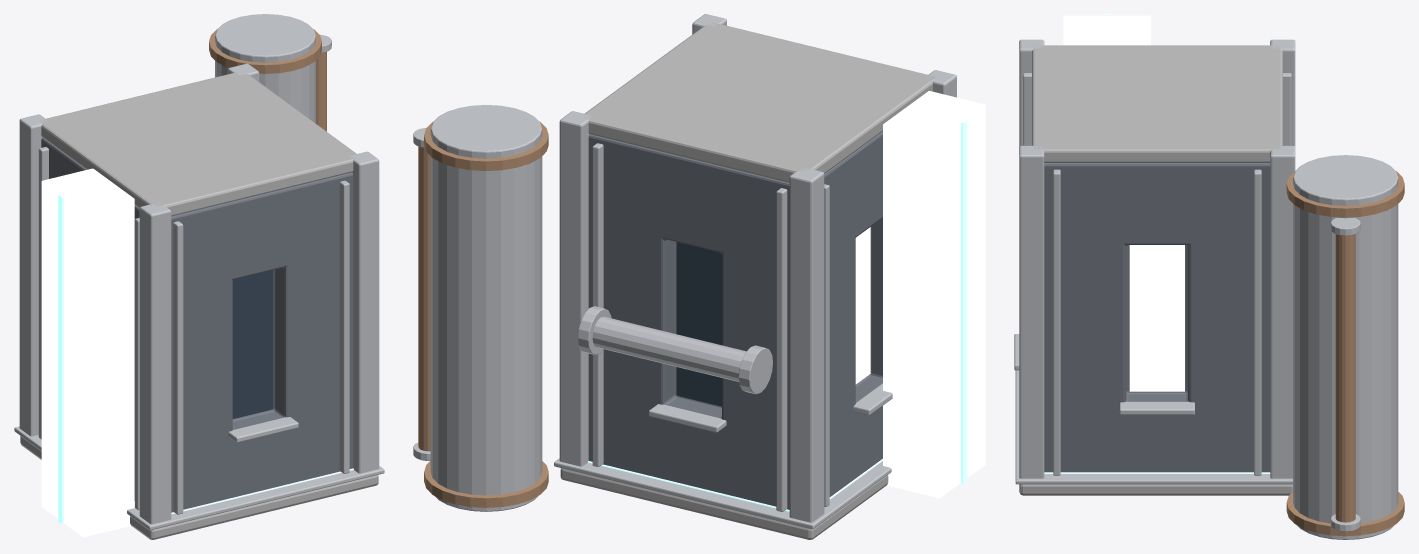
The model's file is svc_2x2.glb.
3 views of the same model, side by side, from view 1: azimuth 30°, elevation 25°; view 2: azimuth 150°, elevation 25°; view 3: azimuth 270°, elevation 25° (orthographic). The views are drawn at different scales.
Parts seen in each view (by area): view 1: ext_wall, ext_lift, int_ceiling, int_columns, ext_frames, ext_svc_tower, ext_panes_dark, int_slab, int_slab_edge, ext_lift_glow, ext_svc_ring2, ext_svc_pipe; view 2: ext_wall, ext_svc_tower, ext_lift, int_ceiling, int_columns, ext_frames, ext_panes_dark, ext_duct, int_slab_edge, ext_svc_pipe, int_slab, ext_lift_glow (+5 smaller); view 3: ext_wall, ext_svc_tower, int_ceiling, int_columns, ext_panes_lit, ext_frames, ext_svc_pipe, int_slab_edge, int_slab, ext_lift, ext_svc_ring2, ext_svc_ring (+1 smaller).
Part boxes in pixels (x1,y1,x2,y2): ext_wall: [41, 138, 353, 512]; ext_lift: [41, 168, 134, 537]; int_ceiling: [40, 72, 356, 216]; int_columns: [19, 63, 379, 524]; ext_frames: [38, 147, 349, 514]; ext_svc_tower: [215, 14, 315, 123]; ext_panes_dark: [232, 270, 273, 418]; int_slab: [20, 436, 378, 539]; int_slab_edge: [14, 426, 384, 530]; ext_lift_glow: [58, 194, 63, 524]; ext_svc_ring2: [209, 29, 321, 73]; ext_svc_pipe: [316, 51, 326, 131]; ext_wall: [588, 131, 882, 509]; ext_svc_tower: [430, 105, 542, 511]; ext_lift: [883, 91, 985, 498]; int_ceiling: [582, 22, 935, 182]; int_columns: [559, 14, 956, 522]; ext_frames: [592, 143, 892, 511]; ext_panes_dark: [676, 242, 721, 406]; ext_duct: [592, 316, 746, 381]; int_slab_edge: [554, 458, 891, 529]; ext_svc_pipe: [418, 146, 430, 451]; int_slab: [560, 468, 888, 539]; ext_lift_glow: [961, 119, 967, 483]; ext_wall: [1044, 163, 1270, 472]; ext_svc_tower: [1293, 155, 1398, 539]; int_ceiling: [1032, 45, 1282, 162]; int_columns: [1019, 39, 1295, 478]; ext_panes_lit: [1129, 245, 1184, 391]; ext_frames: [1014, 73, 1291, 475]; ext_svc_pipe: [1335, 234, 1355, 522]; int_slab_edge: [1015, 370, 1292, 484]; int_slab: [1019, 484, 1292, 495]; ext_lift: [1063, 15, 1150, 45]; ext_svc_ring2: [1286, 171, 1404, 217]; ext_svc_ring: [1286, 492, 1404, 536].
Bounding box in the file's own units: 3.69 × 3 × 3.11.
